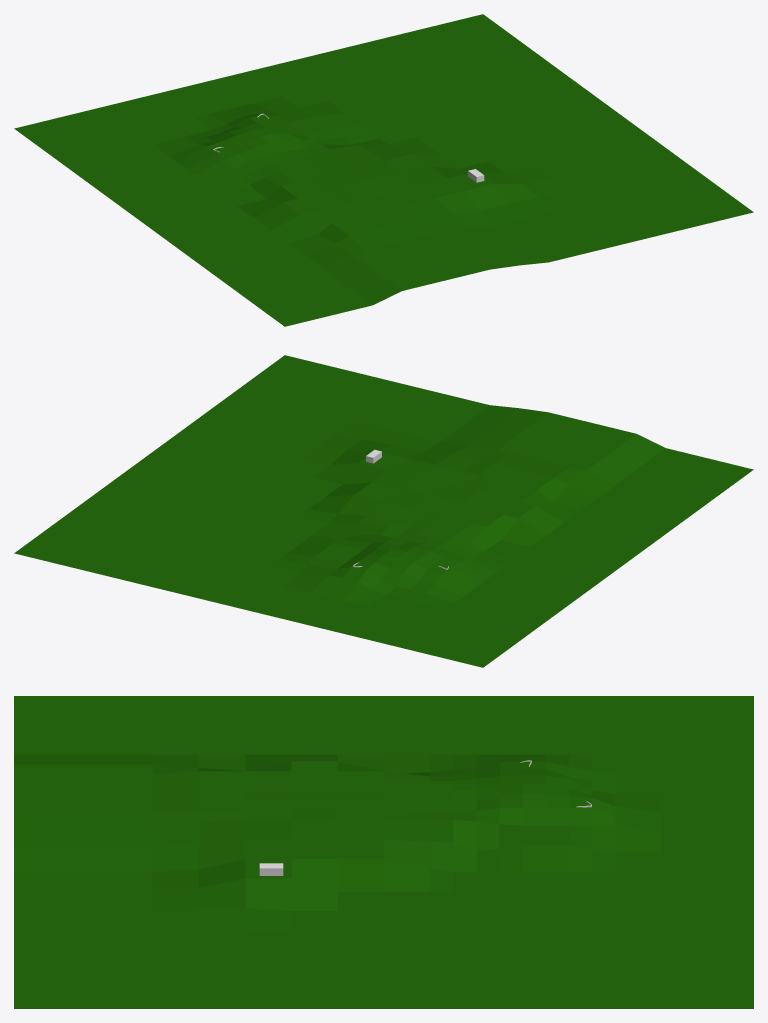
Rendered from hill_1.glb.
3 renders of one model, top to bottom at view 1: azimuth 30°, elevation 25°; view 2: azimuth 150°, elevation 25°; view 3: azimuth 270°, elevation 25°, orthographic. The views are drawn at different scales.
Parts seen in each view (by area): view 1: Plane; view 2: Plane; view 3: Plane.
Part boxes in pixels (box(x1,y1,x2,y2)): Plane: box(14, 14, 753, 326); Plane: box(14, 355, 753, 667); Plane: box(14, 696, 753, 1008).
Size of what is drawn, in the model's own units: 500 by 15.43 by 500.
